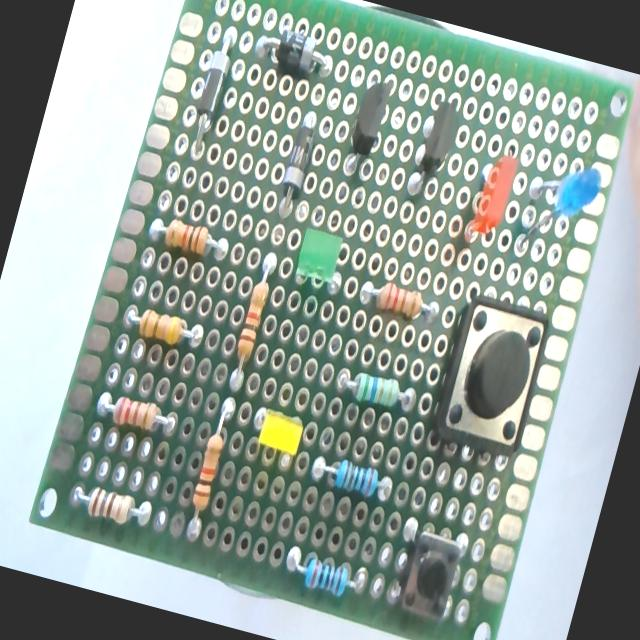diode: (178, 31, 236, 158), (272, 110, 322, 226), (254, 22, 338, 82)
led: (516, 151, 606, 265), (461, 144, 522, 250), (291, 227, 354, 296), (246, 406, 308, 471)
resistor: (182, 398, 236, 540), (227, 252, 280, 391), (282, 545, 366, 601), (308, 450, 391, 500), (357, 277, 441, 326), (147, 214, 230, 263), (72, 482, 150, 532), (124, 305, 204, 353), (336, 366, 417, 413), (102, 390, 170, 436)
switch: (428, 291, 554, 463), (392, 527, 466, 623)
transistor: (401, 96, 465, 202), (337, 73, 396, 184)
